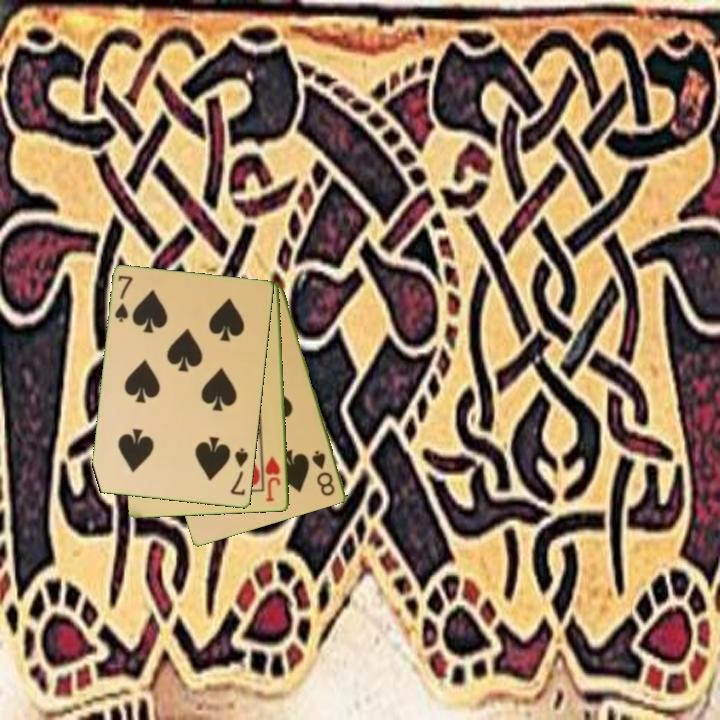7s: (111, 272, 136, 325), (227, 445, 251, 498)
8s: (309, 447, 338, 499)
Jh: (262, 453, 283, 505)
